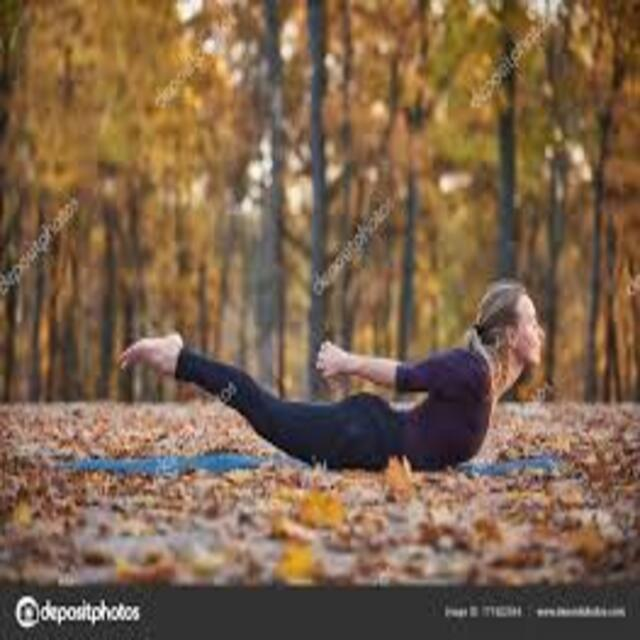Locust_Pose: (117, 282, 550, 477)
